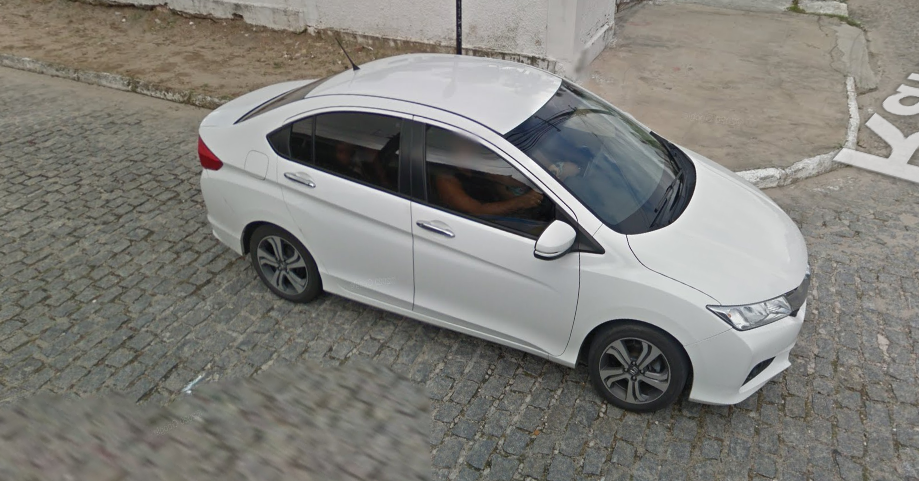car: (192, 32, 815, 419)
